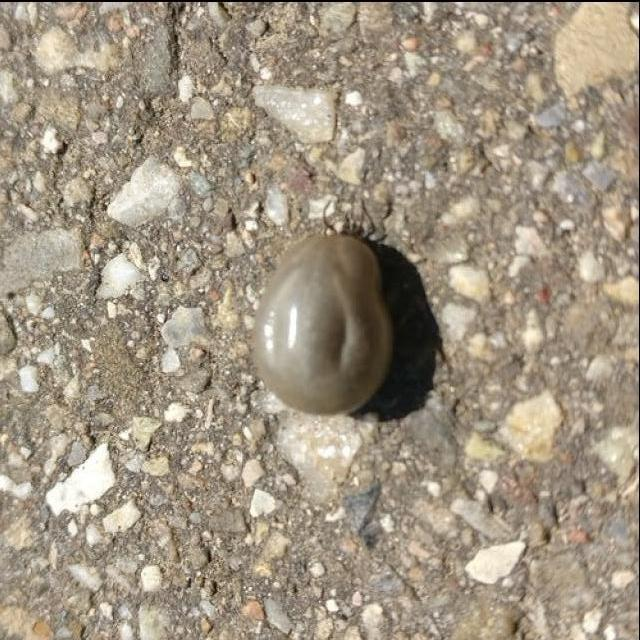Ixodes Ricinus-F-Fed: (260, 195, 397, 415)
